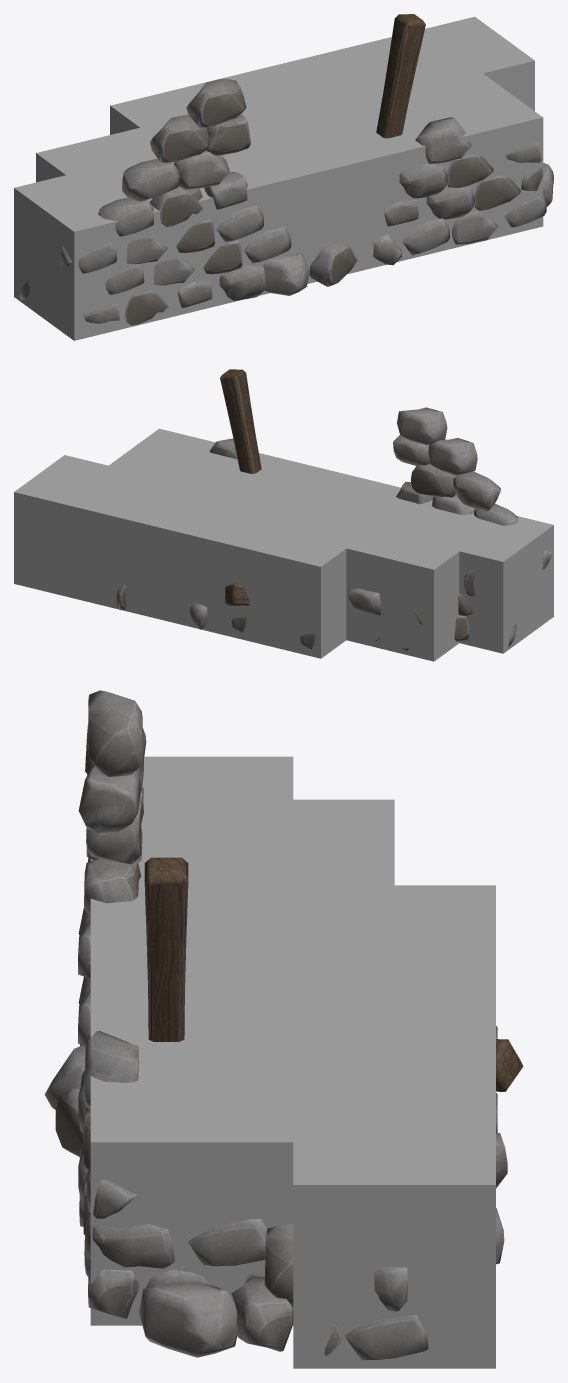
Rendered from moyen_ruin_variant_2.fbx.
The picture shows the model from 3 angles, top to bottom: view 1: azimuth 30°, elevation 25°; view 2: azimuth 150°, elevation 25°; view 3: azimuth 270°, elevation 25°; orthographic projection. The views are drawn at different scales.
Visible parts, largest first — view 1: standardCube2, group2_brick3_low18; view 2: standardCube2, group2_brick3_low18; view 3: standardCube2, group2_brick3_low18.
Boxes of the visible parts, left/top/right/bottom form: standardCube2: left=14, top=16, right=543, bottom=340; group2_brick3_low18: left=20, top=14, right=553, bottom=325; standardCube2: left=14, top=428, right=553, bottom=661; group2_brick3_low18: left=116, top=369, right=552, bottom=650; standardCube2: left=90, top=756, right=495, bottom=1368; group2_brick3_low18: left=44, top=690, right=523, bottom=1360.
Size of the model in its own units: 1012 by 422 by 473.
2 materials, 1 textured.
